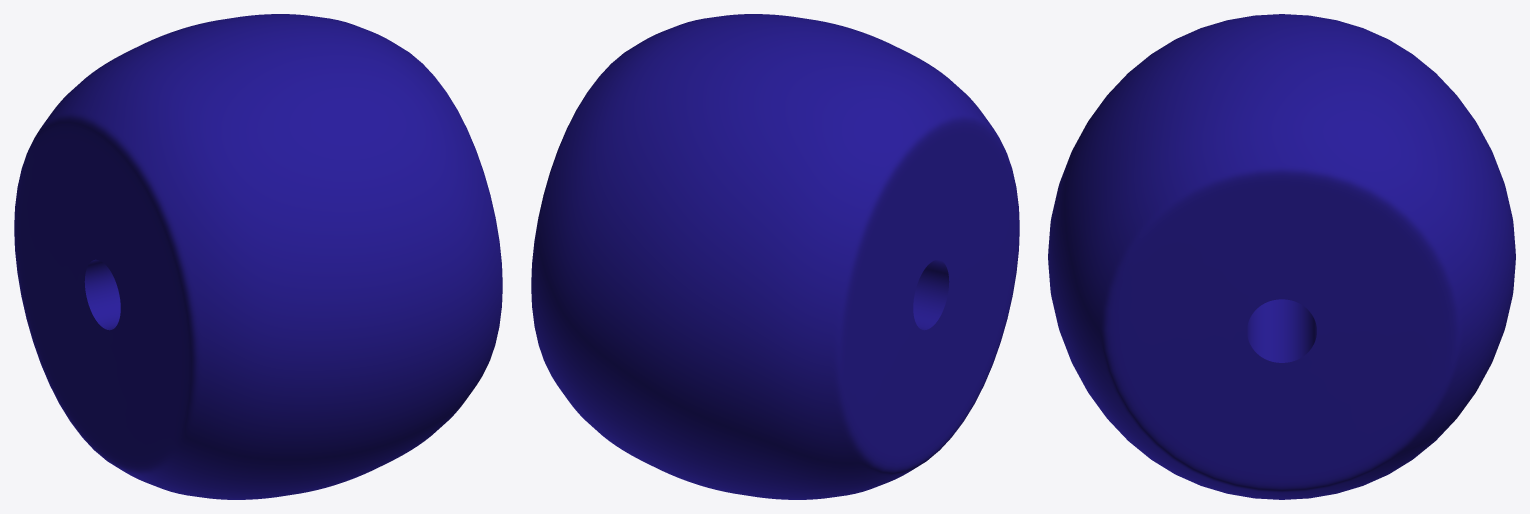
Rendered from 蓝药片.gltf.
The picture shows the model from 3 angles, left to right: view 1: azimuth 30°, elevation 25°; view 2: azimuth 150°, elevation 25°; view 3: azimuth 270°, elevation 25°; orthographic projection. The views are drawn at different scales.
Visible parts, largest first — view 1: JewelCAD; view 2: JewelCAD; view 3: JewelCAD.
Part boxes in pixels (x1,y1,x2,y2): JewelCAD: (14, 14, 502, 499); JewelCAD: (531, 14, 1019, 499); JewelCAD: (1048, 14, 1515, 499).
Size of the model in its own units: 0.003 by 0.004 by 0.004.
